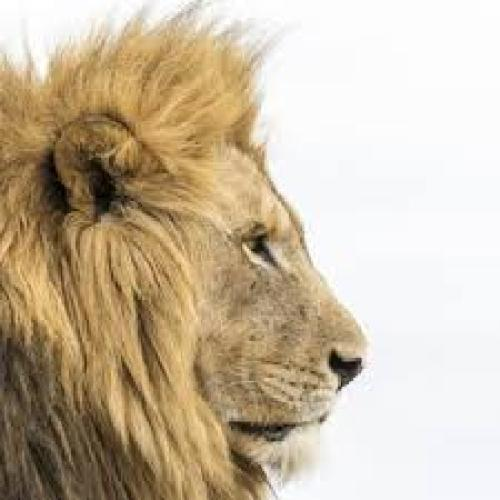lion-endangered: (0, 76, 372, 500)
